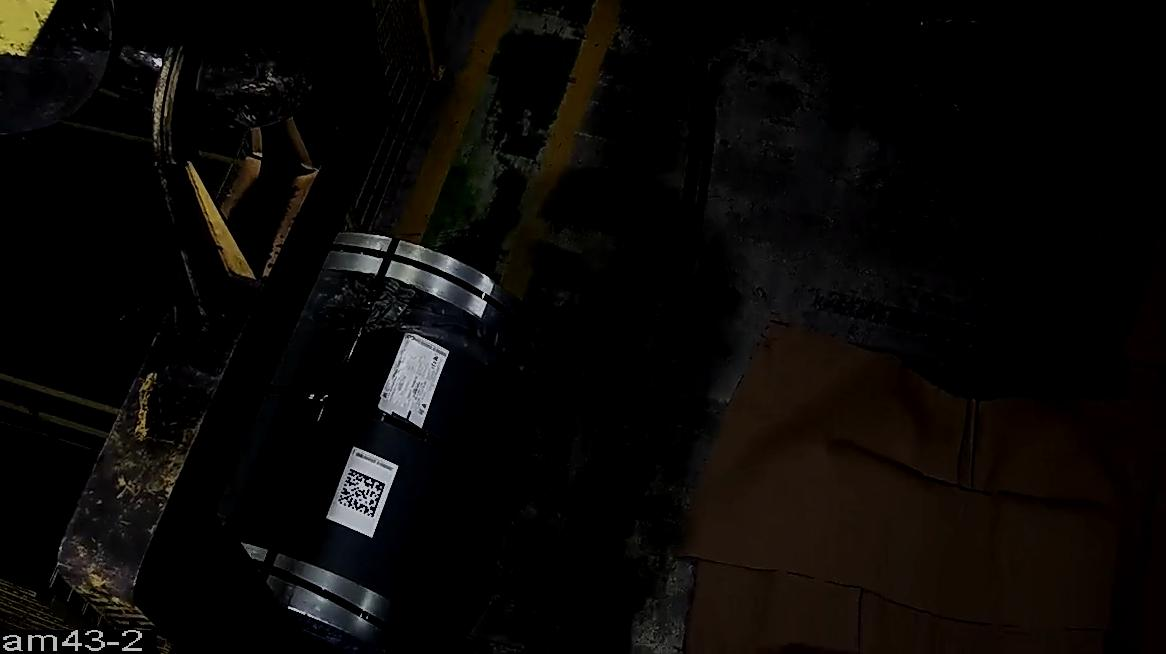data matrix: (337, 468, 388, 520)
